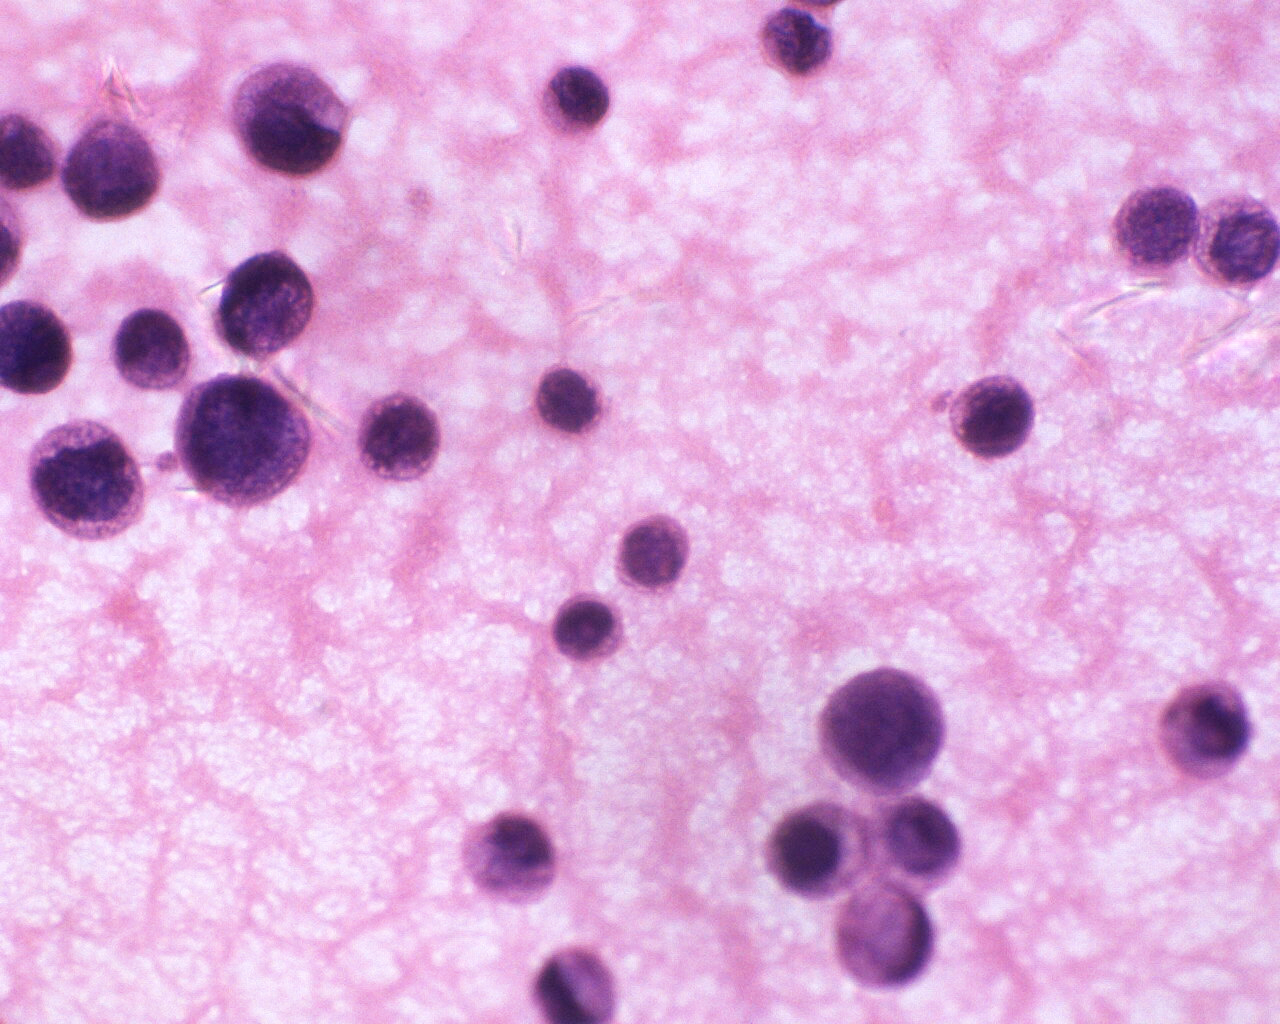ab: (173, 370, 315, 514), (815, 666, 954, 801), (227, 59, 356, 182), (27, 416, 148, 544), (212, 250, 322, 362), (55, 119, 168, 226), (1155, 675, 1260, 788), (768, 798, 878, 903), (460, 809, 566, 910), (1196, 184, 1280, 296), (942, 371, 1042, 463), (352, 391, 446, 484), (1110, 183, 1202, 277), (1, 292, 75, 399), (110, 308, 197, 394), (616, 505, 695, 594), (548, 586, 629, 667), (530, 359, 604, 439), (539, 61, 612, 141)
